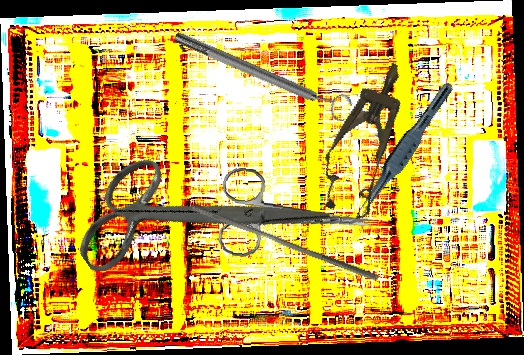Fixation Ring: (170, 21, 355, 126)
Iris Scissors: (53, 86, 333, 348), (215, 166, 378, 270)
Pusher: (188, 203, 383, 282)
Speculum: (308, 52, 426, 224)
Tissue Forceps: (353, 76, 456, 221)
